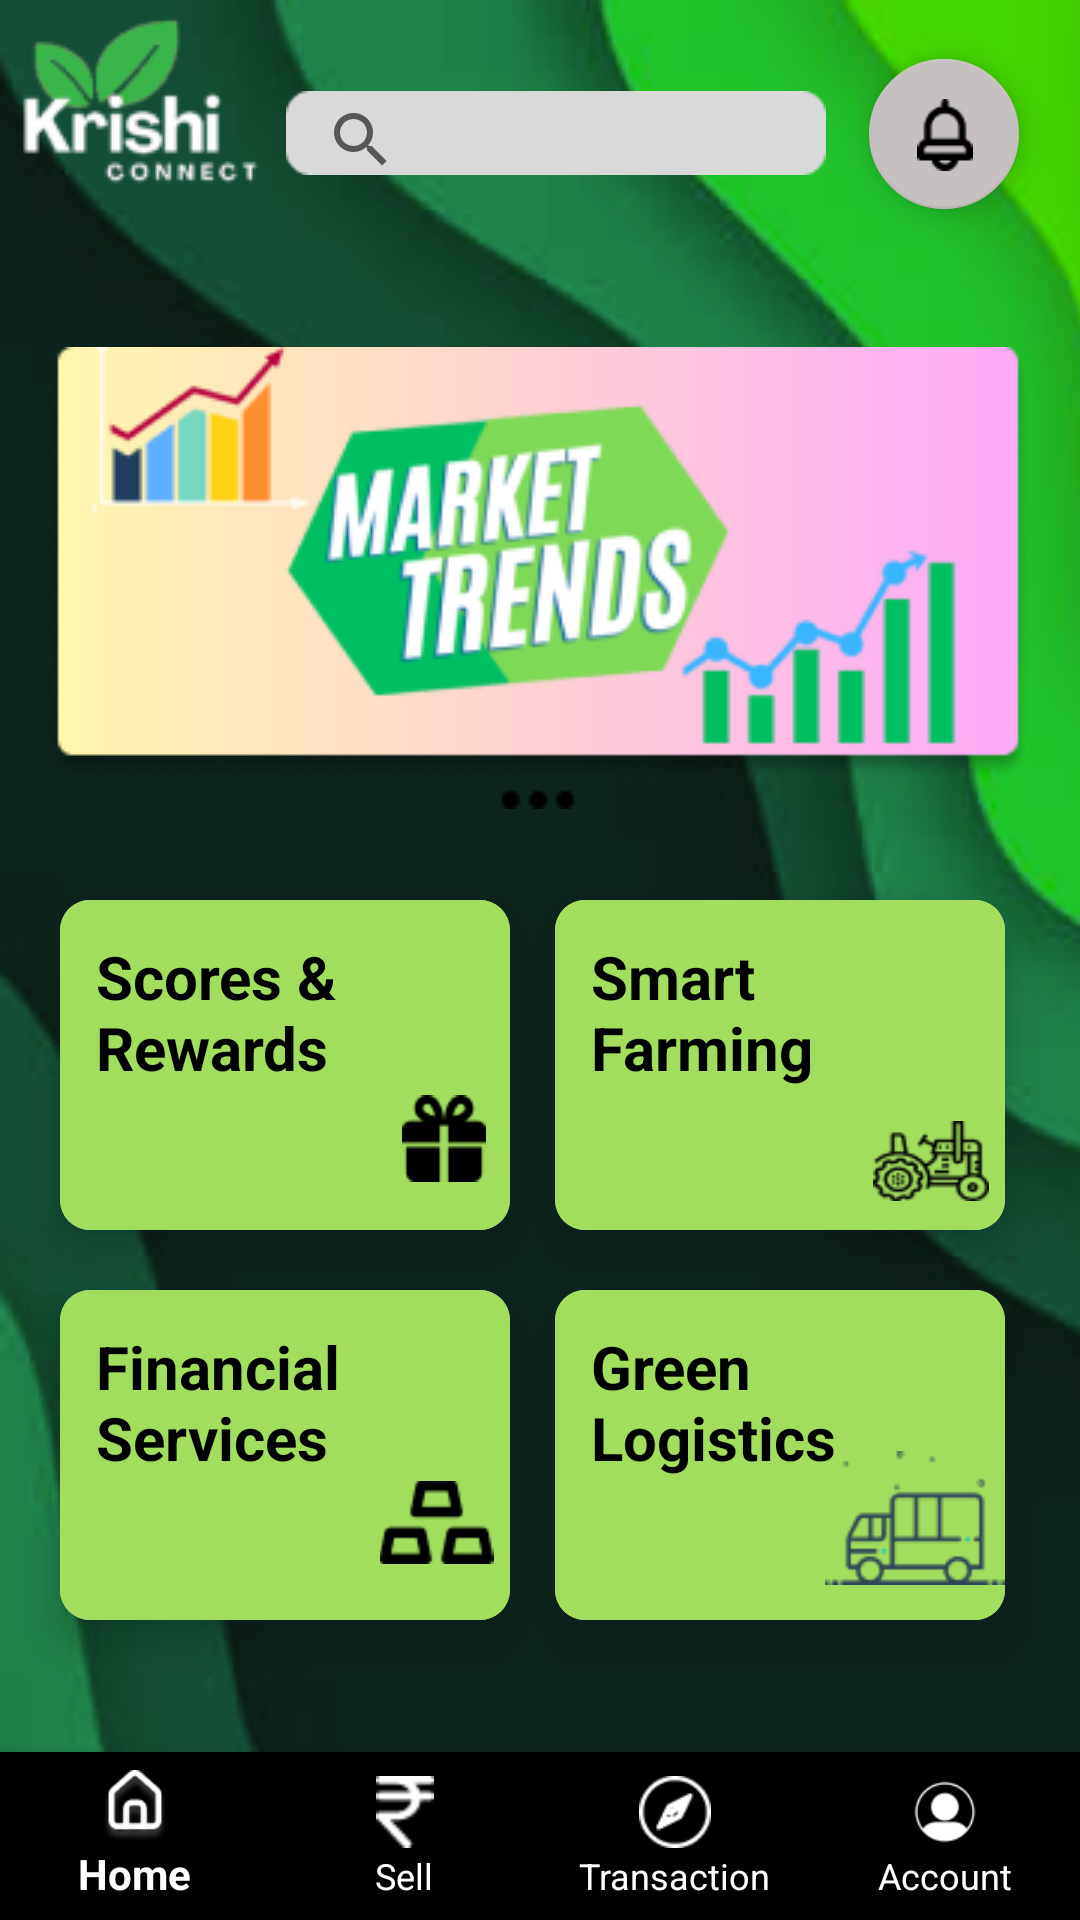

Point at icon controls on the screen. Image size 1080px x 1920px, points as [x,y].
bell: [944,134]
